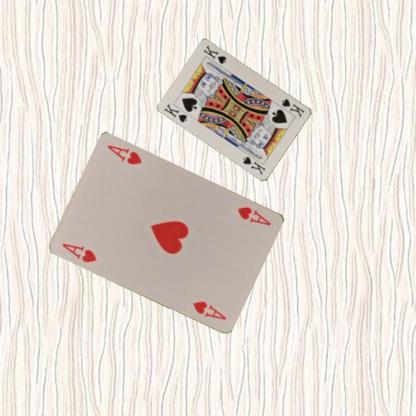Ah: (60, 240, 98, 264), (235, 204, 273, 227)
Ks: (162, 101, 188, 124), (280, 96, 306, 118)
